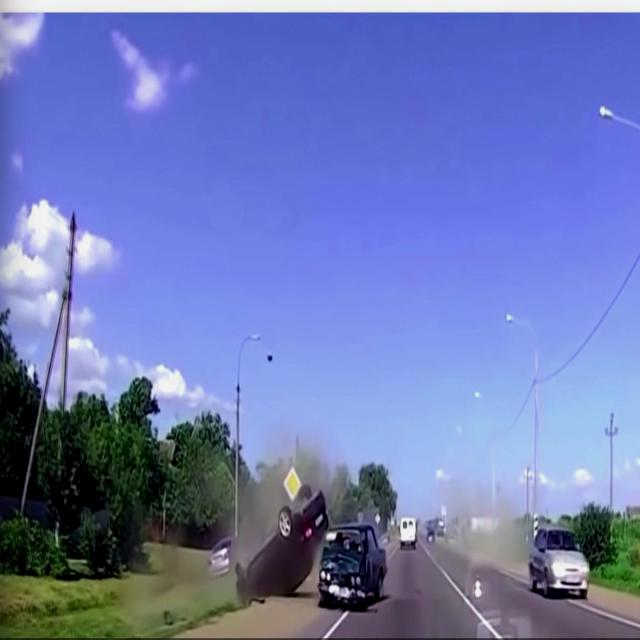accident: (236, 486, 390, 610)
non-accident: (425, 514, 447, 542)
